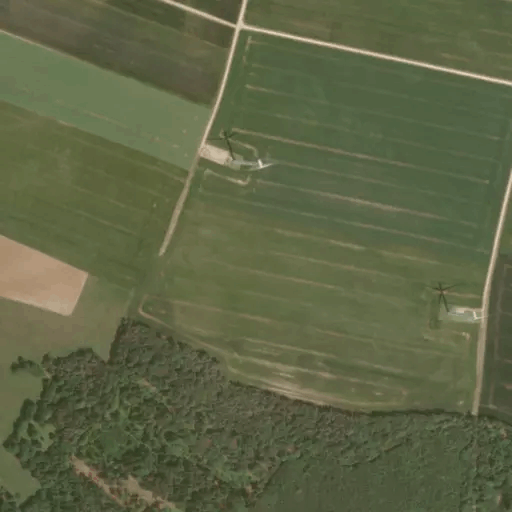wt: (205, 120, 279, 178), (418, 276, 495, 325)
